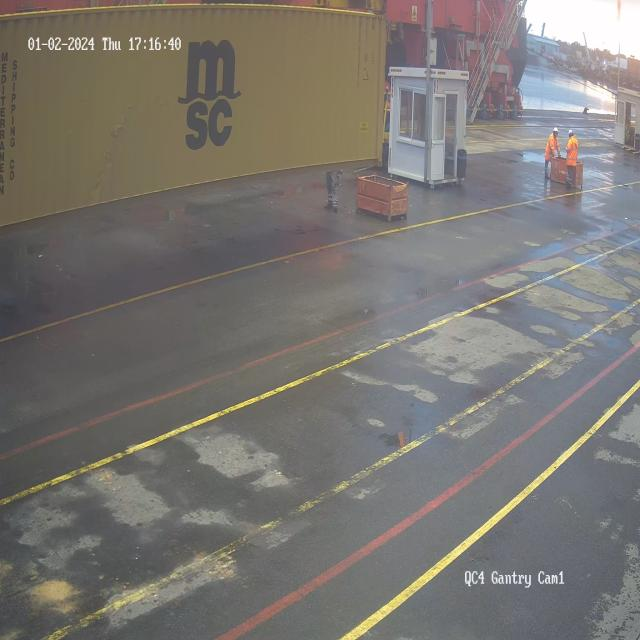dent: (87, 101, 134, 209)
